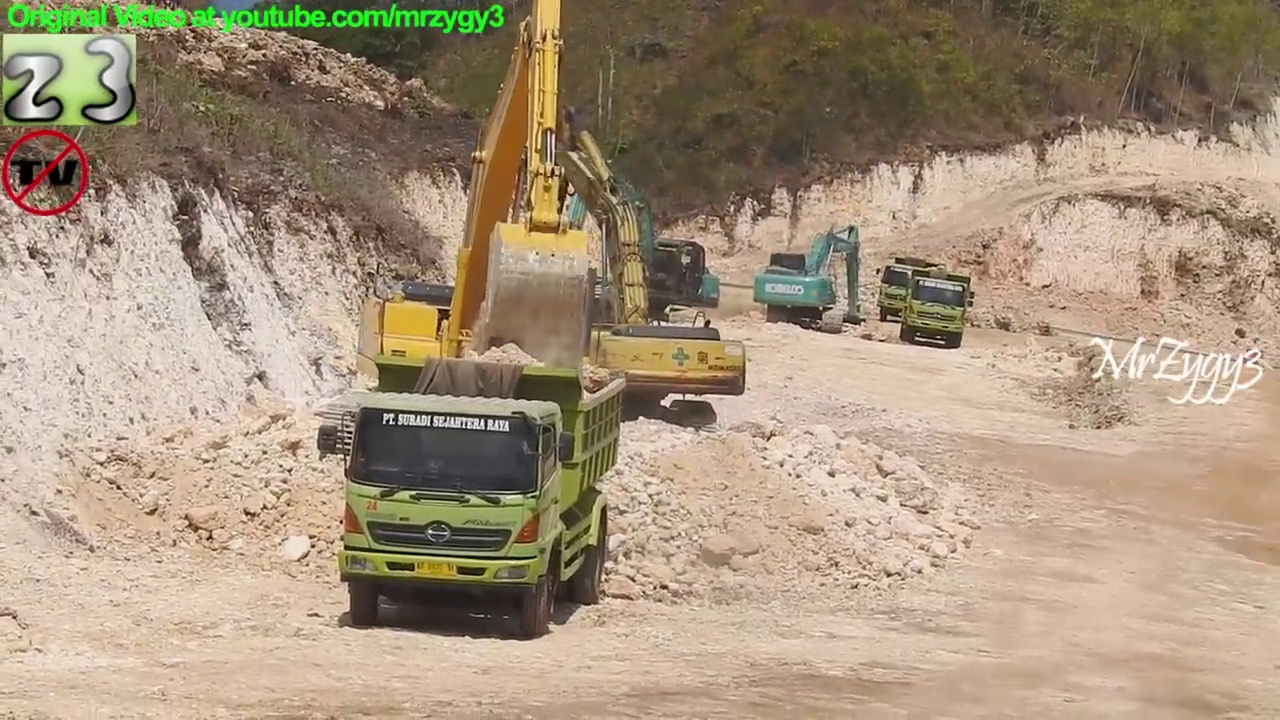excavator: (319, 2, 634, 476), (438, 102, 754, 445), (550, 162, 729, 333), (753, 220, 872, 336)
truck: (316, 350, 624, 643), (900, 269, 979, 350), (875, 252, 951, 326)
